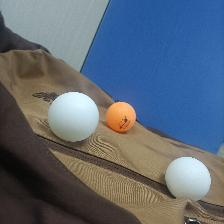WhiteBall: (48, 91, 98, 142), (164, 156, 211, 199)
YellowBall: (105, 101, 135, 131)
